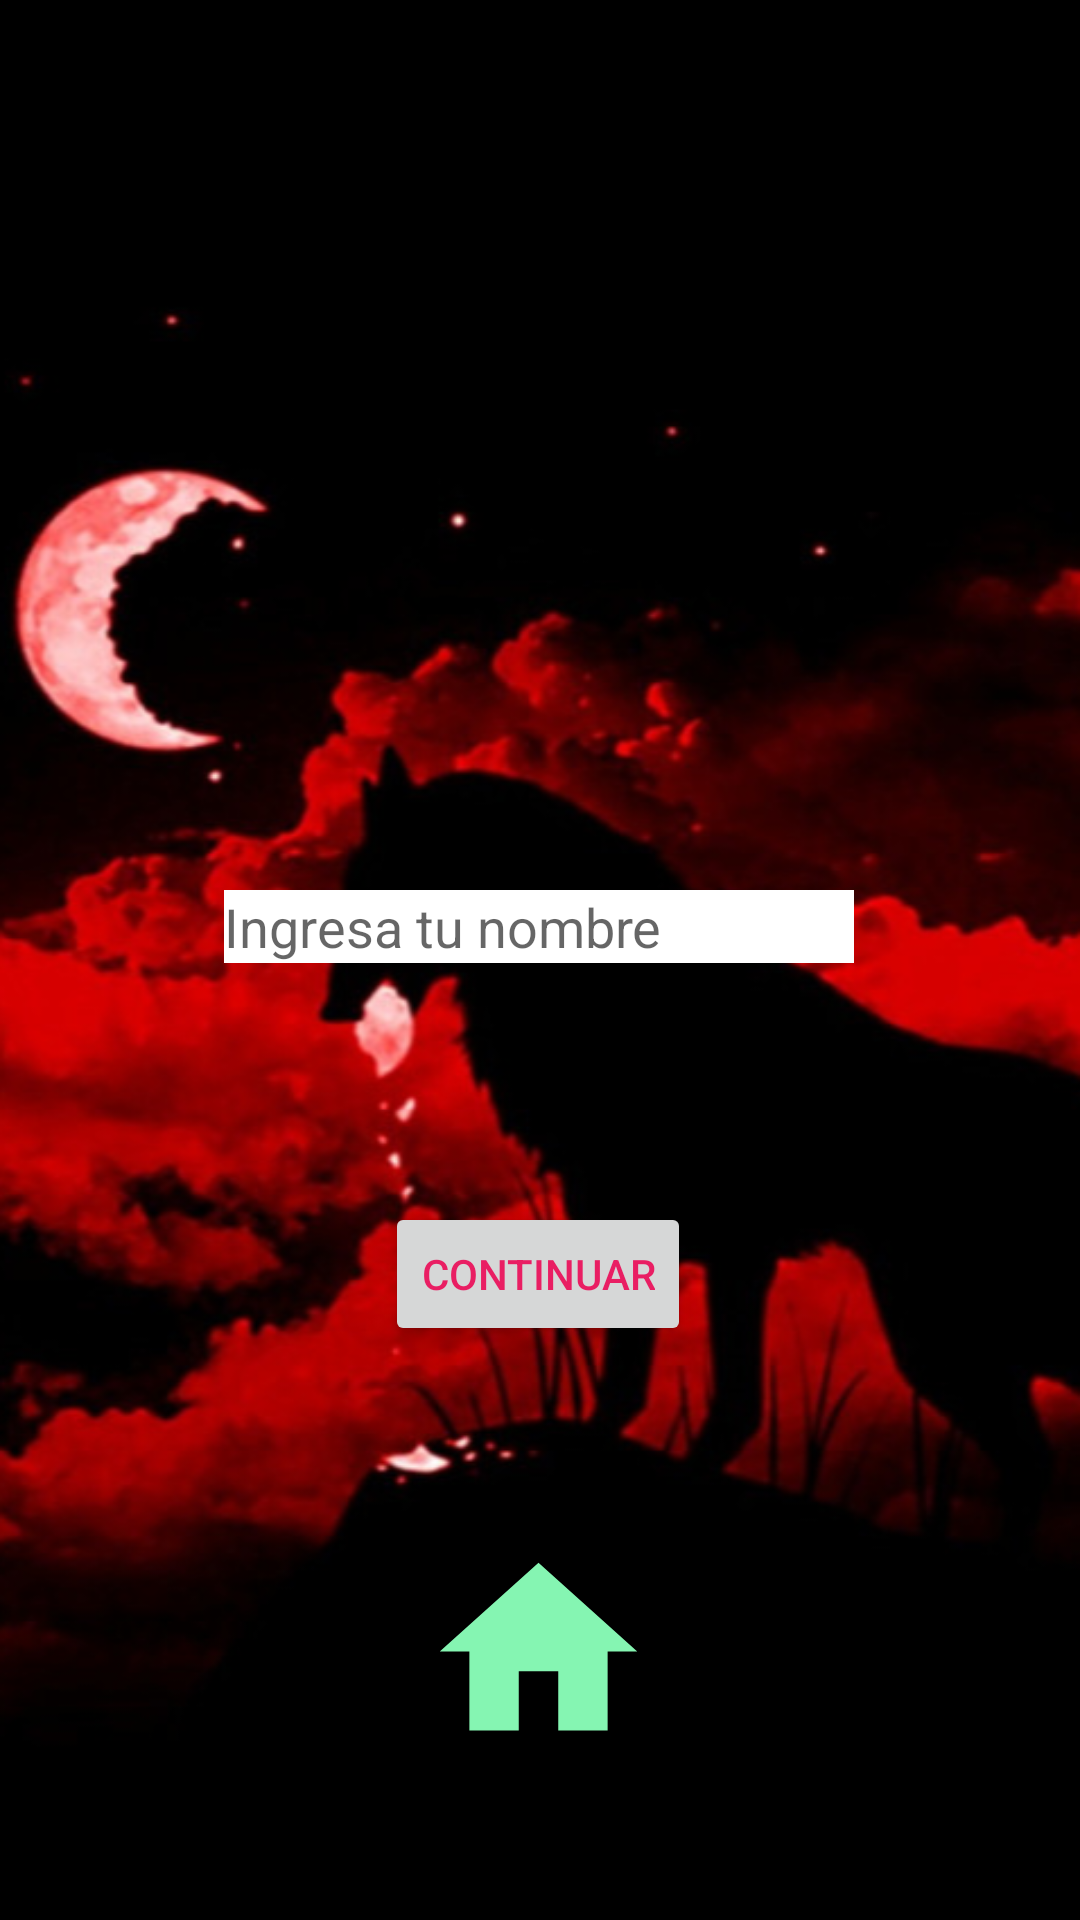

Icons on this 1080x1920 Android screen, each with the point to tap as (x=x, y=y):
home: (x=538, y=1647)
